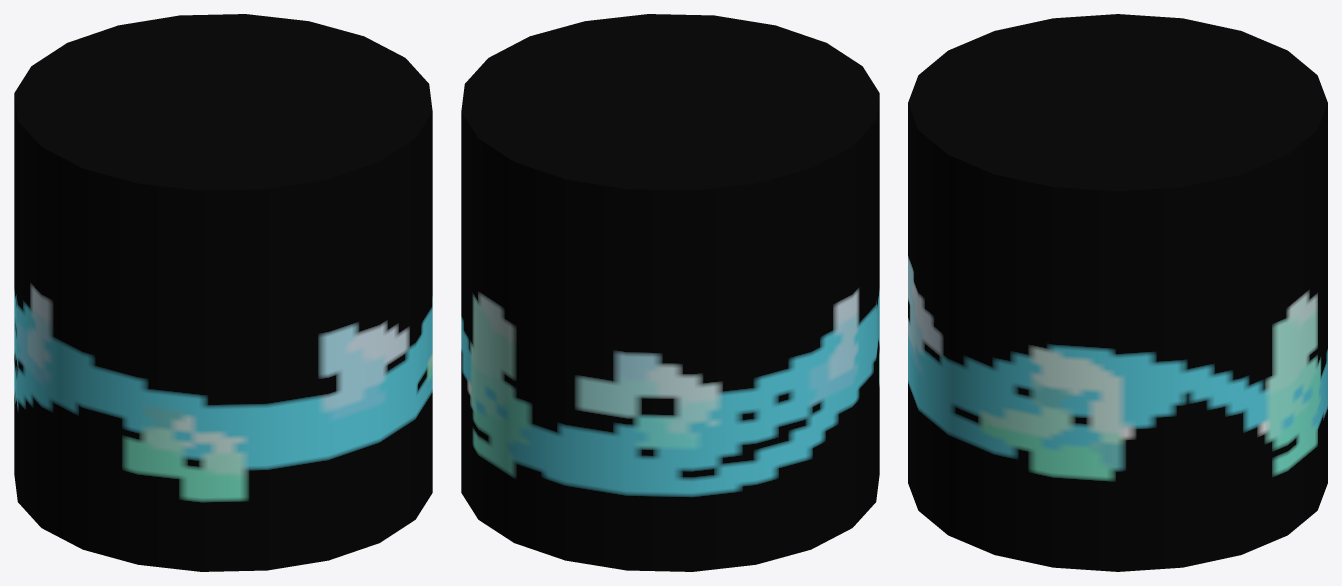
The model's file is VFXKoto.fbx.
The picture shows the model from 3 angles, left to right: view 1: azimuth 30°, elevation 25°; view 2: azimuth 150°, elevation 25°; view 3: azimuth 270°, elevation 25°; orthographic projection.
Visible parts, largest first — view 1: vfx; view 2: vfx; view 3: vfx.
Part boxes in pixels (left/top/right/bottom): vfx: left=14, top=14, right=432, bottom=571; vfx: left=461, top=14, right=879, bottom=571; vfx: left=908, top=14, right=1327, bottom=571.
Bounding box in the file's own units: 6 × 6 × 6.
Materials: 1 (1 with a texture image).
